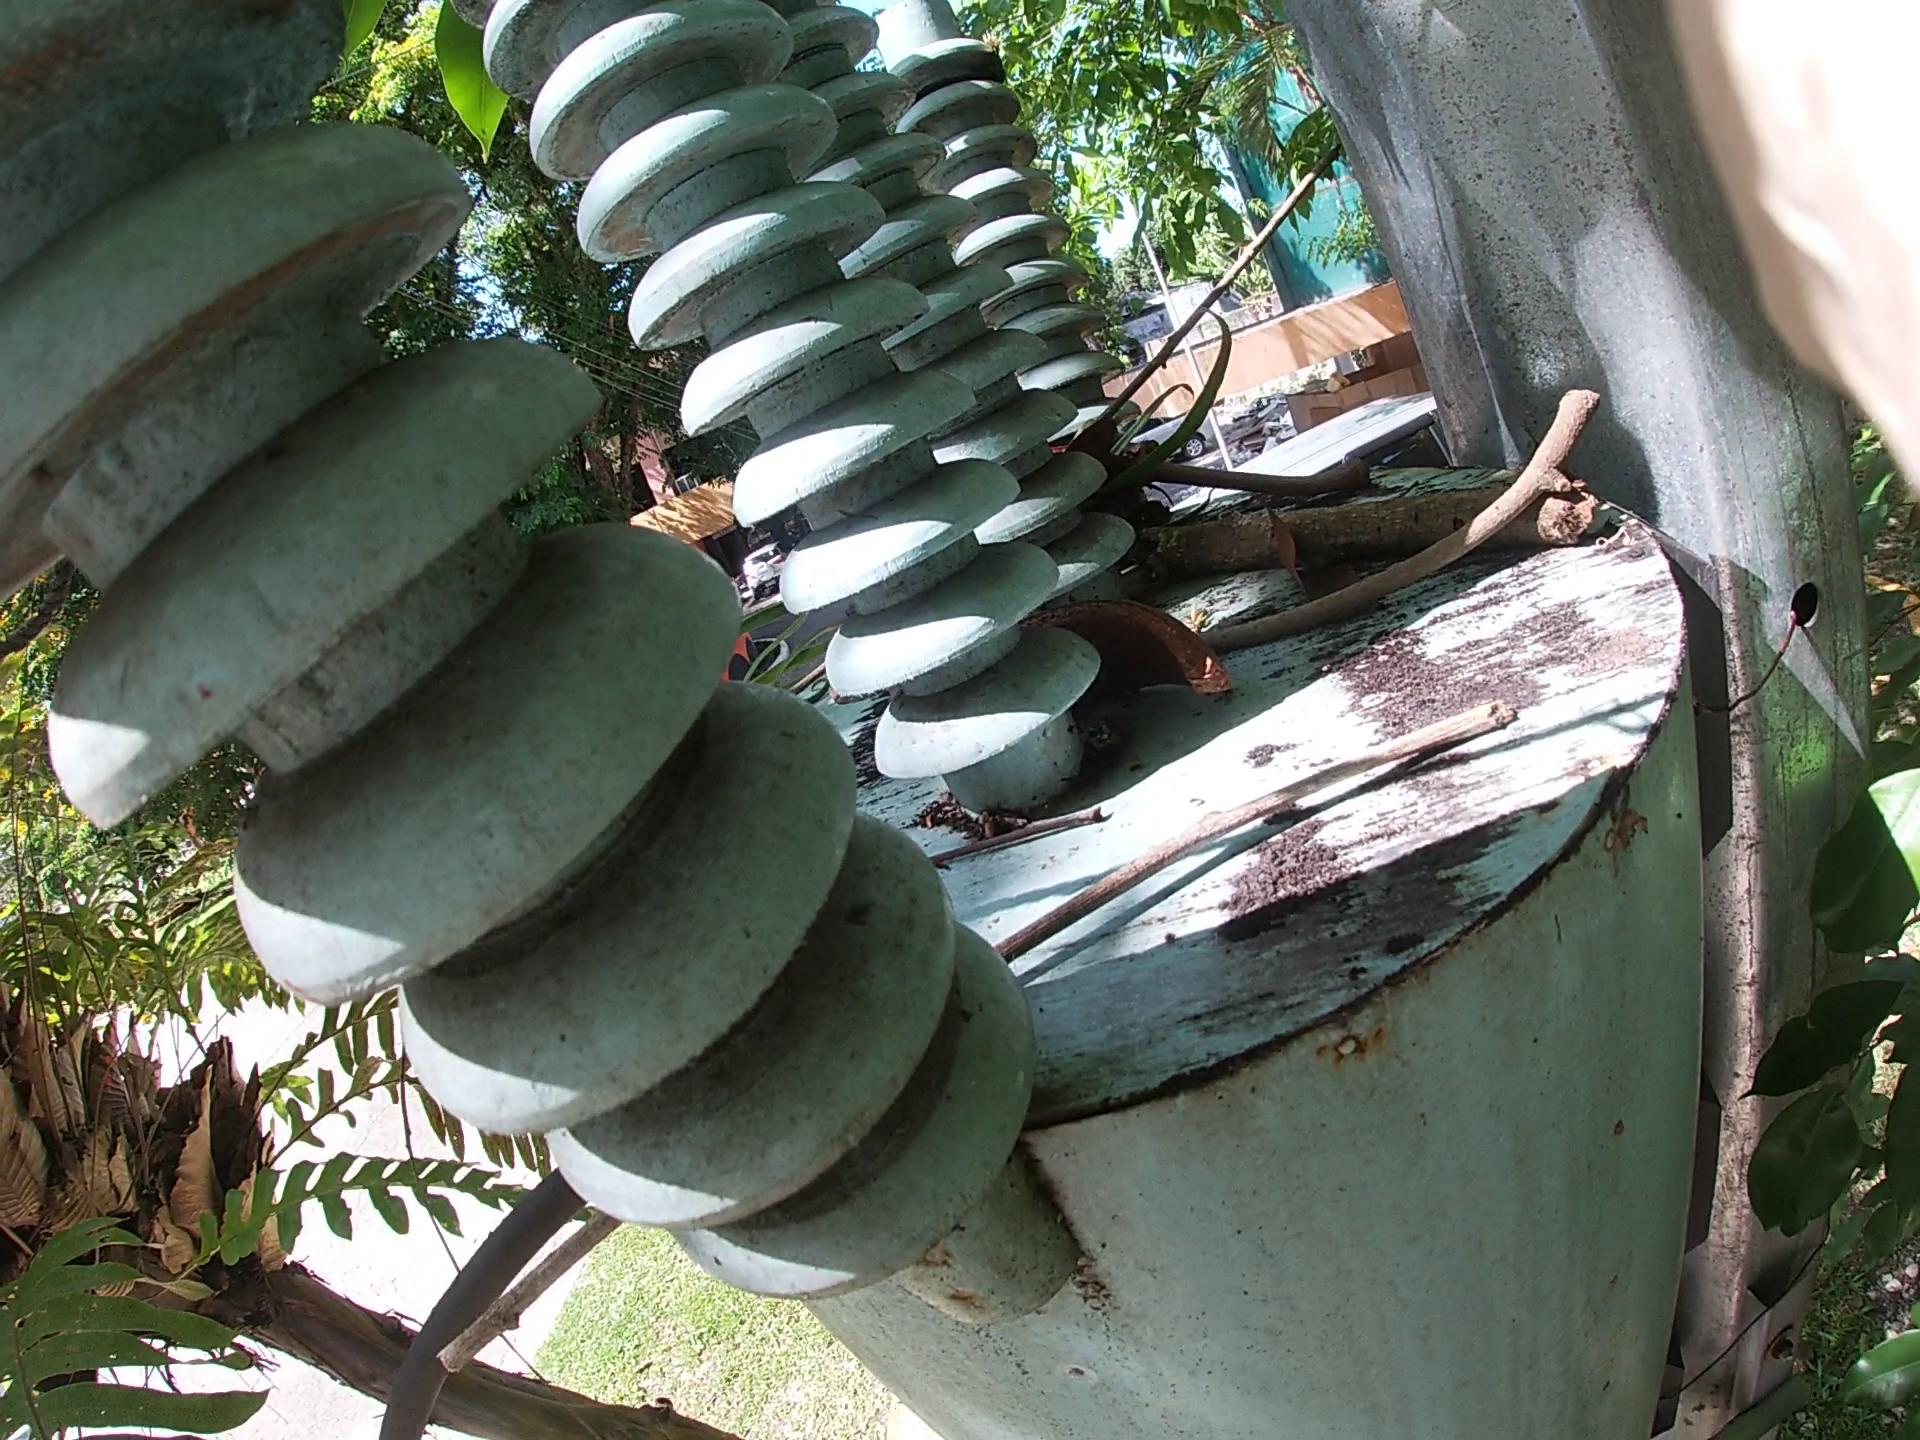branch with leaves: (1002, 396, 1584, 622)
leaf: (1270, 504, 1411, 694)
mahogany fruit: (1001, 540, 1250, 815)
tree branch: (438, 682, 1459, 1369), (1033, 42, 1350, 551), (883, 790, 1129, 889)
